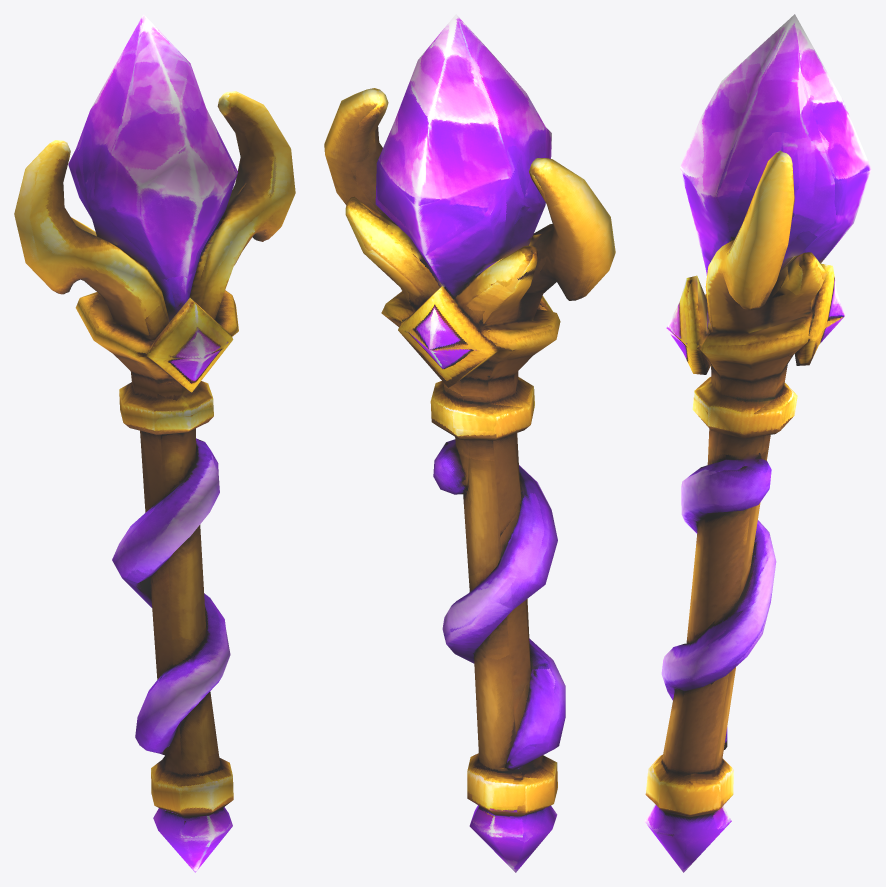
File: baculo.glb
The picture shows the model from 3 angles, left to right: view 1: azimuth 30°, elevation 25°; view 2: azimuth 150°, elevation 25°; view 3: azimuth 270°, elevation 25°; orthographic projection. The views are drawn at different scales.
Parts seen in each view (by area): view 1: baculo; view 2: baculo; view 3: baculo.
Boxes of the visible parts, x1,y1,x2,y2 form: baculo: (14, 14, 295, 872); baculo: (324, 14, 615, 872); baculo: (644, 14, 871, 872).
Size of the model in its own units: 0.5192 by 1.55 by 0.3716.
1 material, 1 textured.
